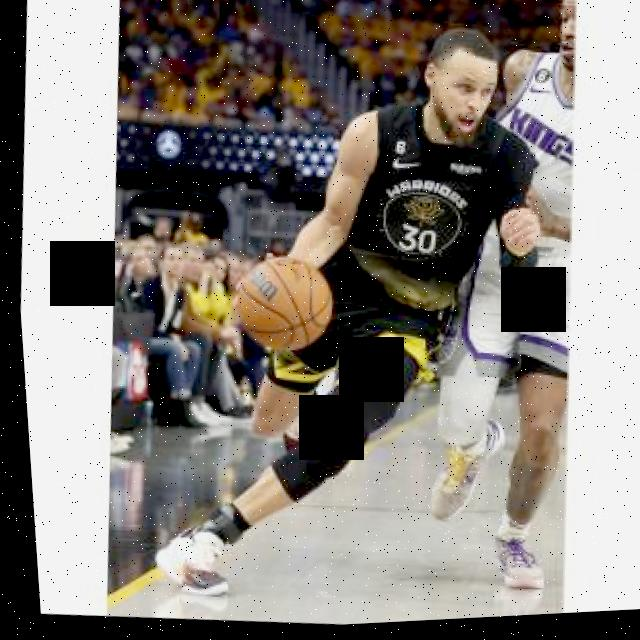shoe: (418, 419, 503, 530), (138, 523, 224, 604), (479, 526, 540, 597)
